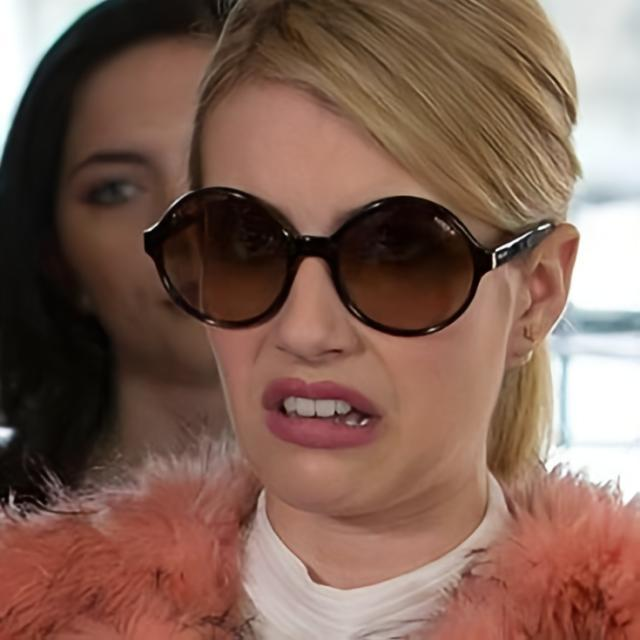disgust: (175, 96, 510, 510)
